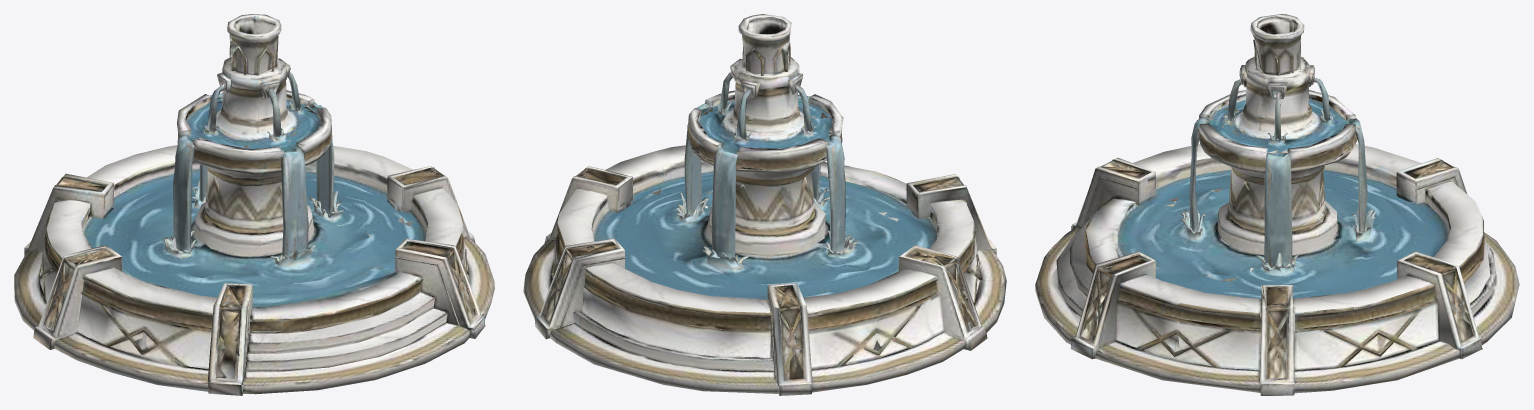
The model's file is fountain.glb.
3 views of the same model, side by side, from view 1: azimuth 30°, elevation 25°; view 2: azimuth 150°, elevation 25°; view 3: azimuth 270°, elevation 25° (orthographic).
Bounding box in the file's own units: 0.957 × 0.5728 × 0.9418.
Materials: 1 (1 with a texture image).
